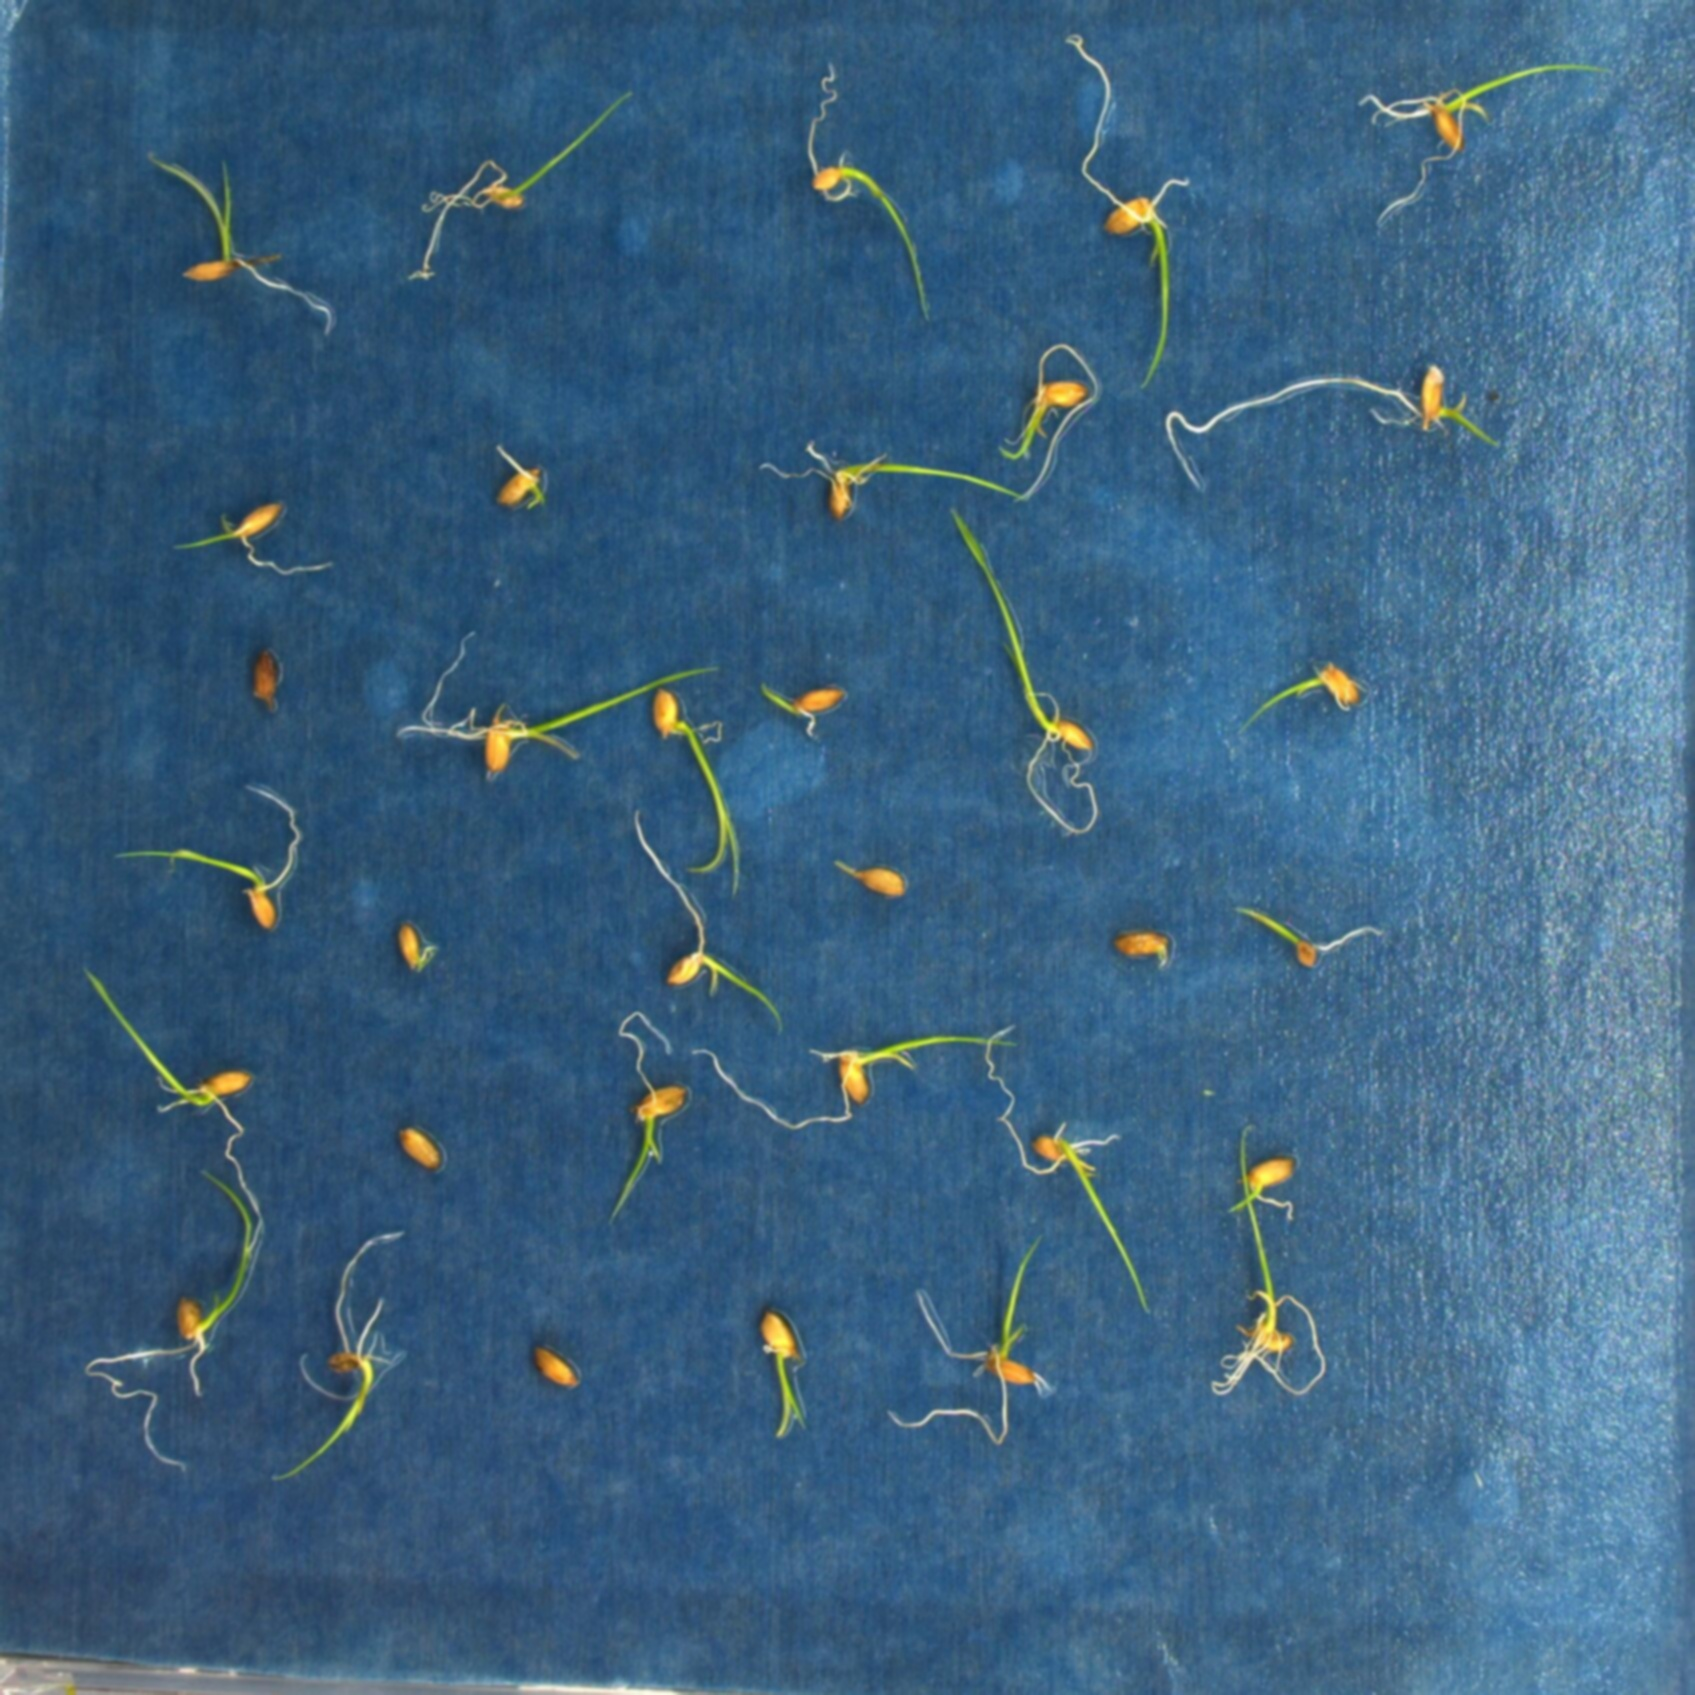not sprout: (1107, 920, 1170, 970), (385, 913, 433, 972), (528, 1341, 577, 1388), (393, 1122, 439, 1170), (245, 650, 281, 711)
sprout: (81, 972, 261, 1257), (393, 626, 719, 781), (950, 503, 1097, 837), (986, 1023, 1150, 1318), (85, 1170, 245, 1471), (1159, 359, 1506, 490), (1068, 36, 1194, 393), (405, 92, 633, 284), (1360, 61, 1600, 227), (629, 812, 784, 1040), (886, 1237, 1055, 1444), (146, 154, 334, 337), (806, 59, 933, 320), (275, 1231, 407, 1481), (1211, 1121, 1326, 1400), (116, 781, 303, 938), (692, 1038, 1018, 1125), (761, 438, 1028, 515), (650, 691, 745, 893), (993, 338, 1097, 504), (615, 1010, 685, 1223), (171, 498, 328, 573), (1234, 908, 1381, 972), (1243, 660, 1361, 734), (757, 1310, 806, 1444), (1222, 1150, 1299, 1226), (754, 681, 847, 740), (490, 439, 546, 511), (830, 855, 903, 897)
